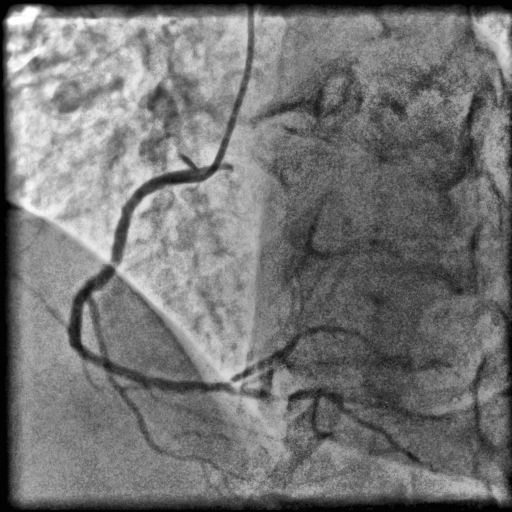pborca: (228, 326, 318, 385)
pda: (227, 385, 443, 472)
rca: (67, 167, 232, 391)
